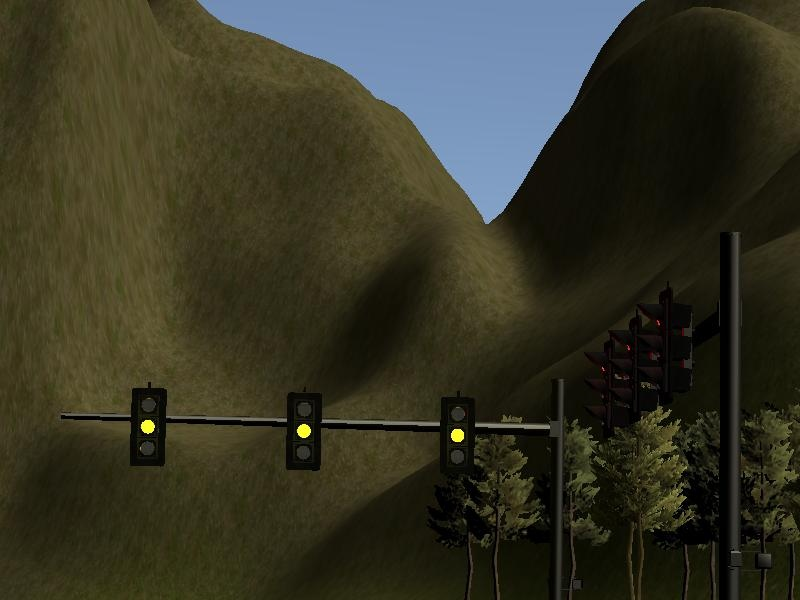YELLOW: (436, 392, 474, 471), (286, 390, 324, 469), (129, 387, 167, 466)
